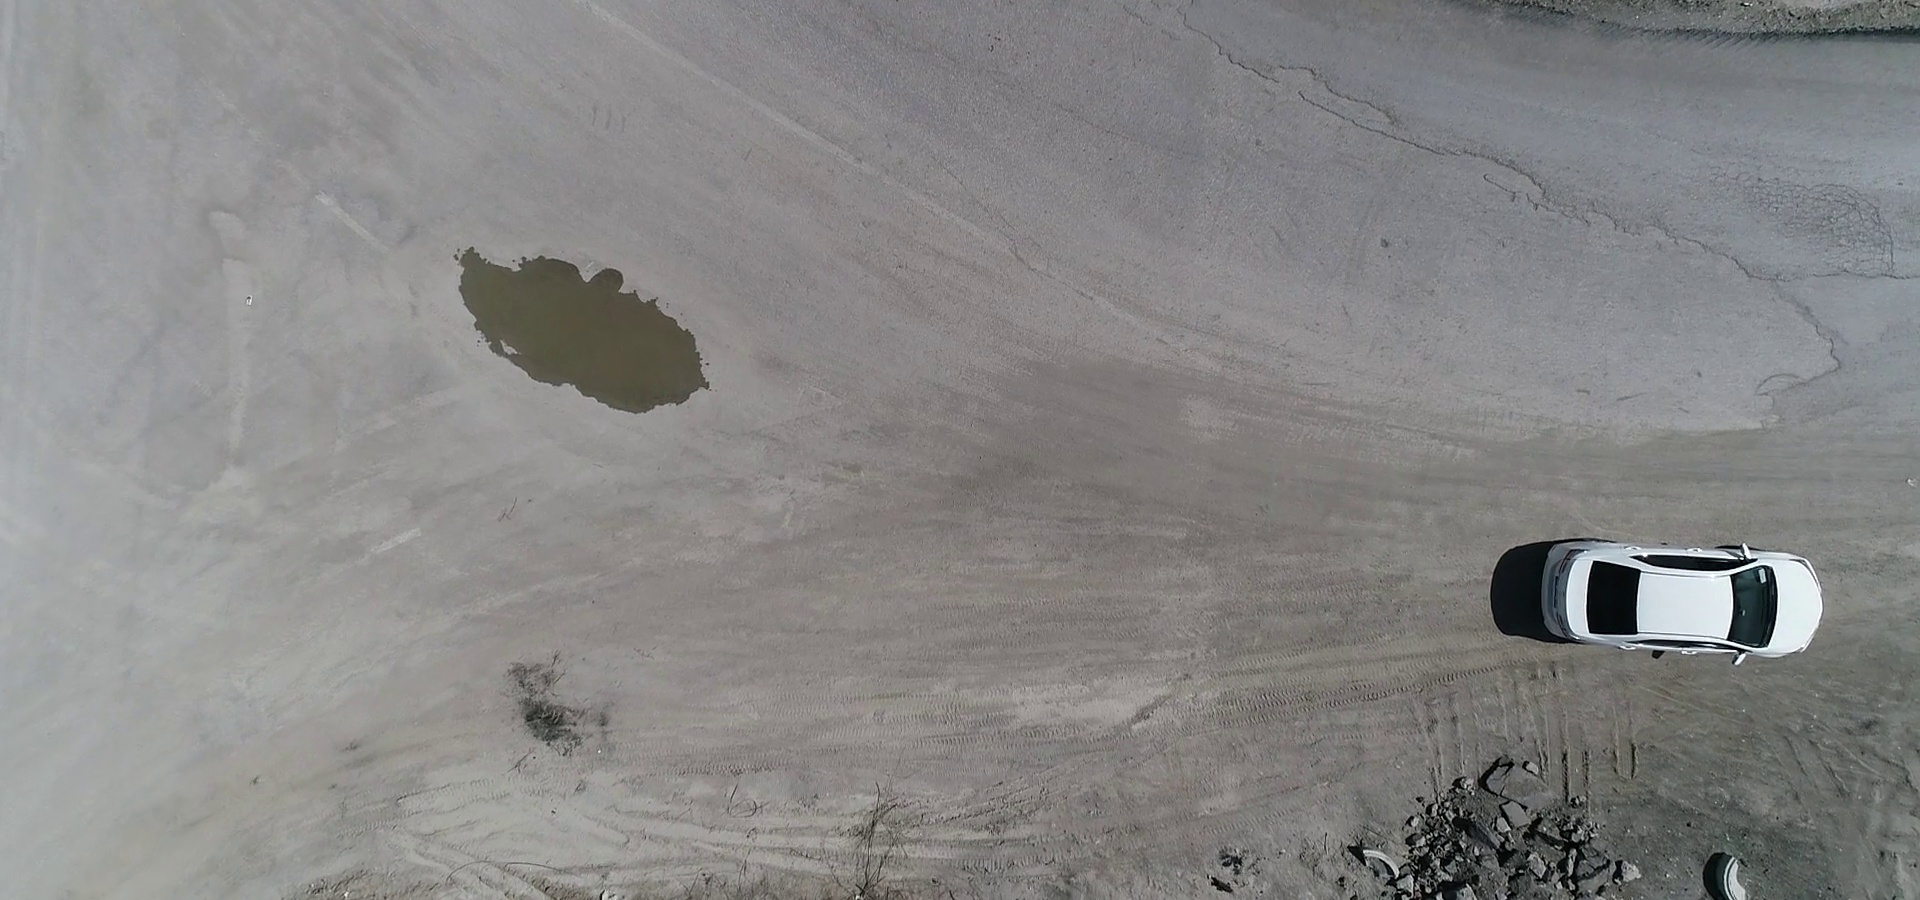arac: (1540, 528, 1837, 669)
